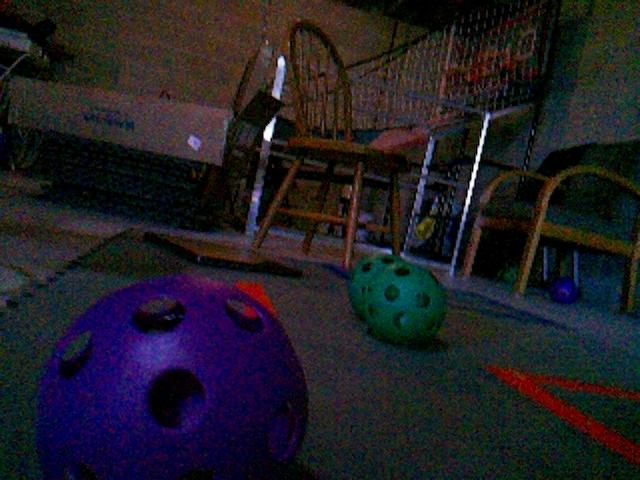Green: (37, 274, 312, 480), (364, 262, 447, 343), (351, 254, 406, 319), (496, 263, 519, 286)
Purple: (549, 276, 581, 305)
